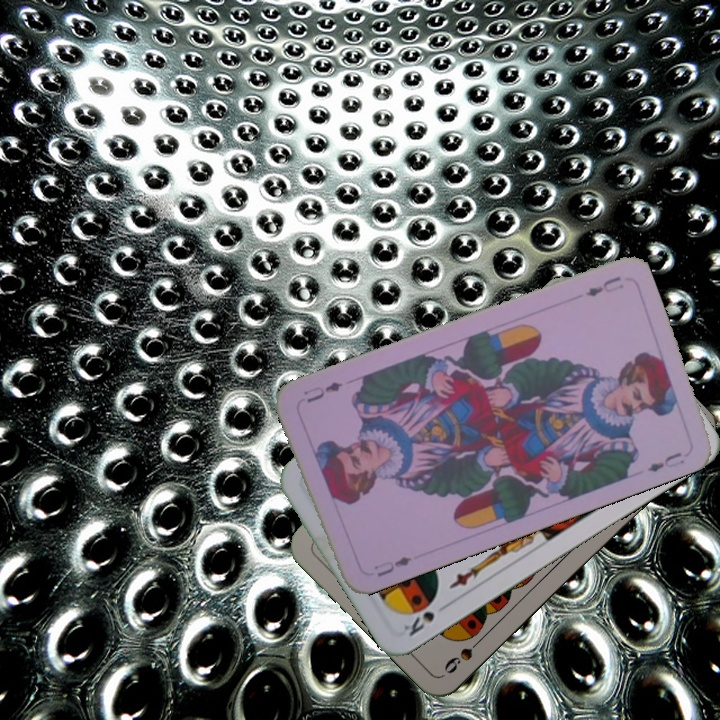EU: (581, 272, 627, 300), (370, 552, 415, 580)
S9: (440, 631, 488, 677)
SK: (399, 607, 438, 639)
